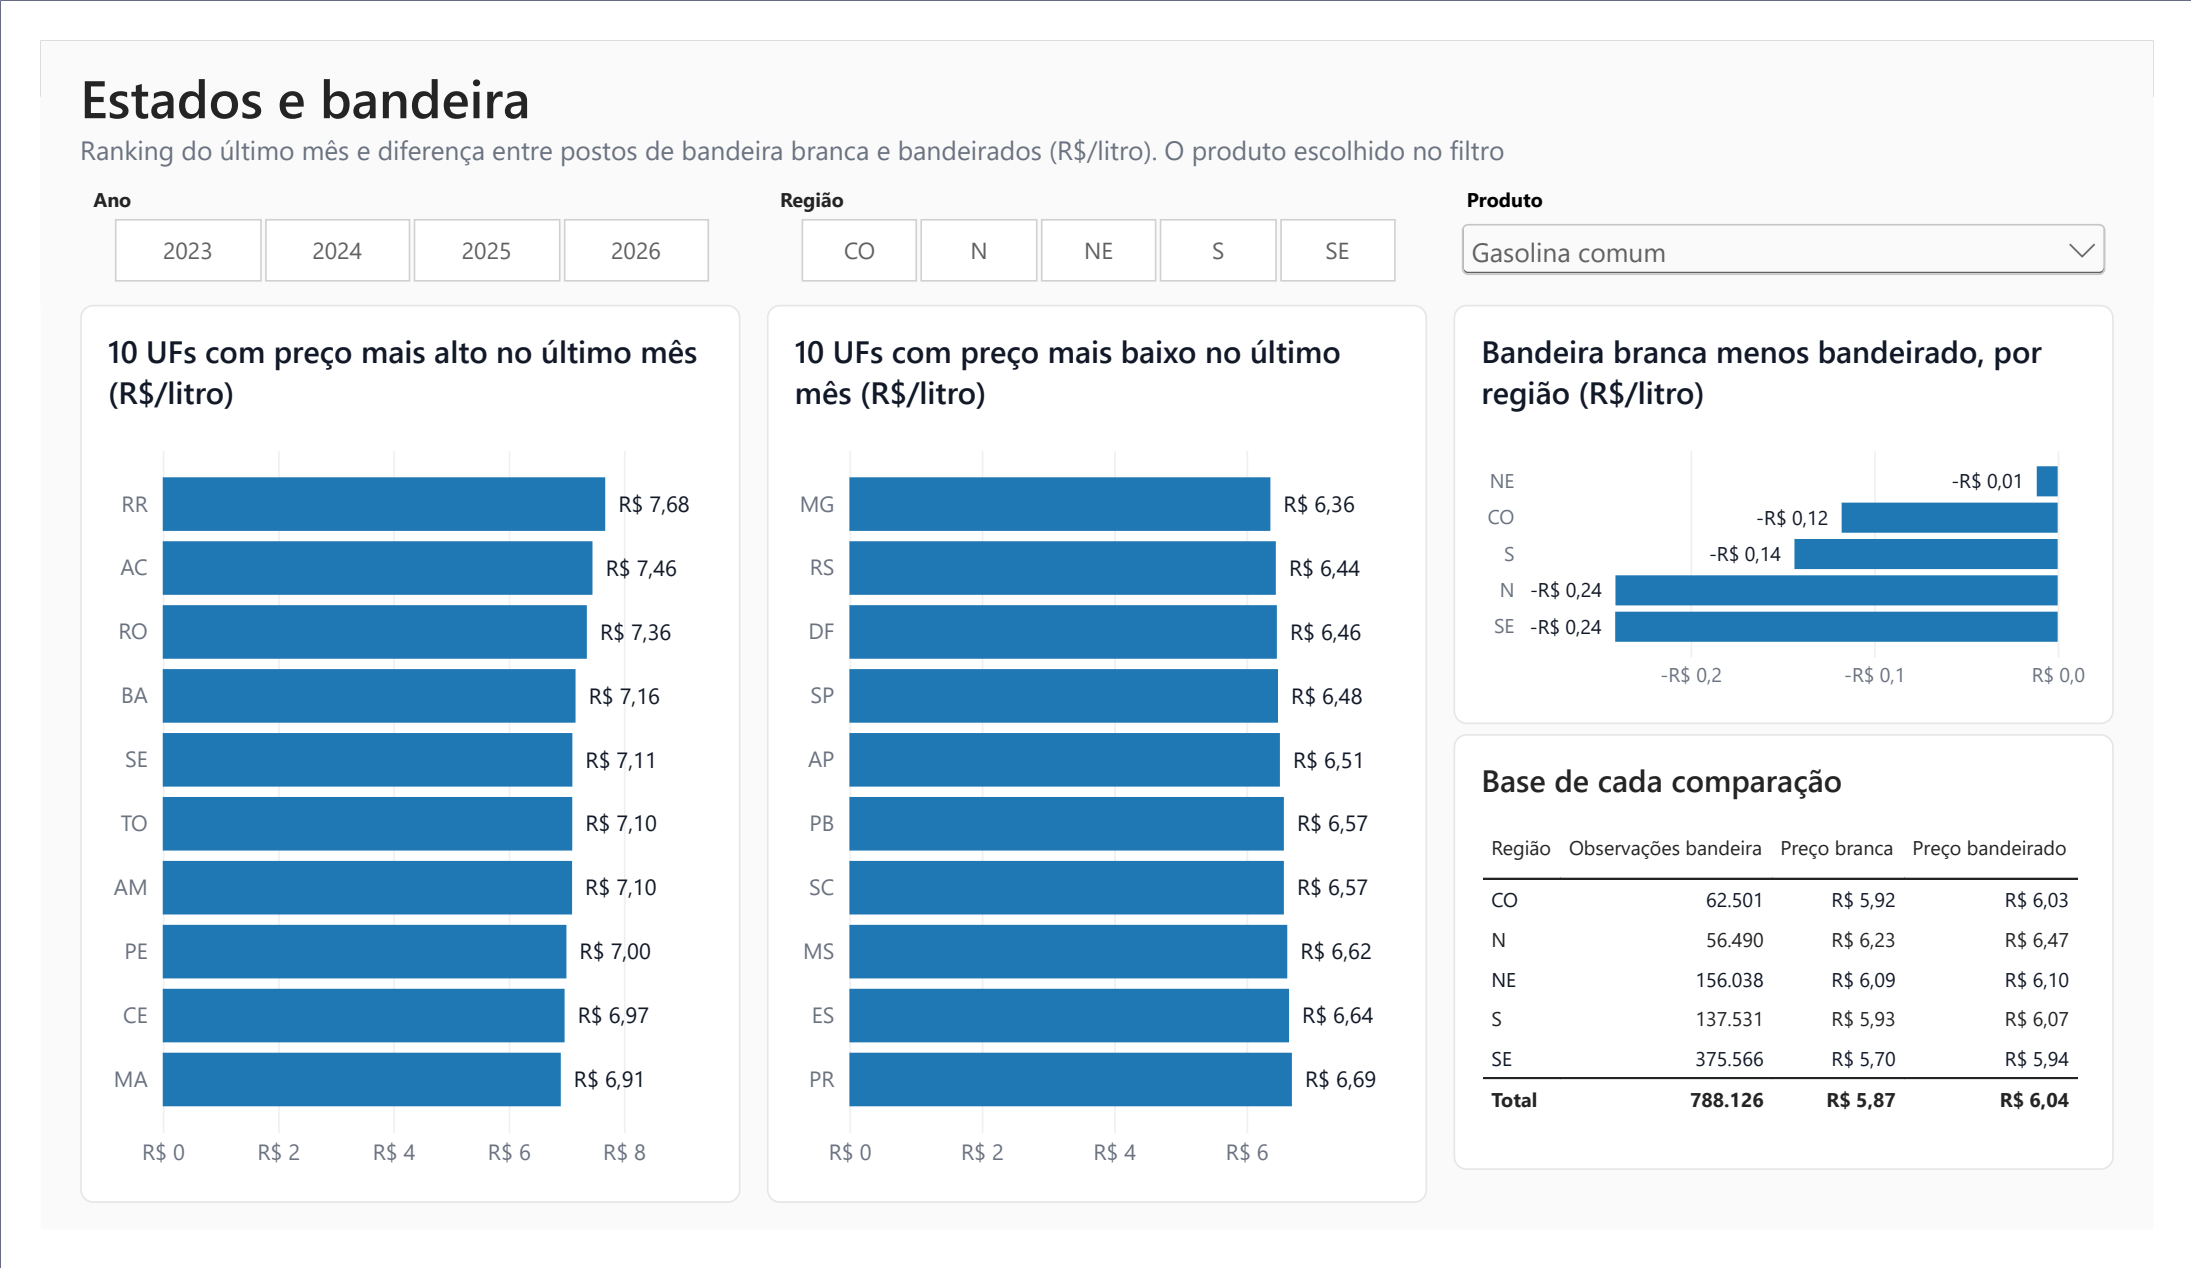

This screenshot's page, from the dashboard's own definition file:
{"tool":"powerbi","page":{"name":"Estados e bandeira","canvas":[1280,720],"ordinal":2},"visuals":[{"type":"textbox","box":[24.3,12,1232,64],"z":0},{"type":"slicer","fields":{"Values":["Calendario.Ano"]},"box":[24.3,88,400,60],"z":1000},{"type":"slicer","fields":{"Values":["uf_regiao.regiao"]},"box":[440,88,400,60],"z":2000},{"type":"barChart","title":"10 UFs com preço mais alto no último mês (R$/litro)","fields":{"Category":["uf_regiao.uf"],"Y":["_Medidas.Preço médio último mês"]},"box":[24,160,400,544],"z":6000},{"type":"slicer","fields":{"Values":["dim_produto.produto_nome"]},"box":[856,88,400,60],"z":6001},{"type":"barChart","title":"10 UFs com preço mais baixo no último mês (R$/litro)","fields":{"Category":["uf_regiao.uf"],"Y":["_Medidas.Preço médio último mês"]},"box":[440,160,400,544],"z":6002},{"type":"barChart","title":"Bandeira branca menos bandeirado, por região (R$/litro)","fields":{"Category":["uf_regiao.regiao"],"Y":["_Medidas.Diferença branca vs bandeirado"]},"box":[856,159.8,399.8,253.9],"z":6003},{"type":"tableEx","title":"Base de cada comparação","fields":{"Values":["uf_regiao.regiao","_Medidas.Observações bandeira","_Medidas.Preço branca","_Medidas.Preço bandeirado"]},"box":[856,420,400,264],"z":6004}]}

Visuals, with their boxes in screenshot pixels (x1, y1, x2, y2), scaled from the page's 1280x720 canvas onto the 2191x1268 screenshot:
textbox: 42,21,2150,134
slicer - Calendario.Ano: 42,155,726,261
slicer - uf_regiao.regiao: 753,155,1438,261
"10 UFs com preço mais alto no último mês (R$/litro)" barChart: 41,282,726,1240
slicer - dim_produto.produto_nome: 1465,155,2150,261
"10 UFs com preço mais baixo no último mês (R$/litro)" barChart: 753,282,1438,1240
"Bandeira branca menos bandeirado, por região (R$/litro)" barChart: 1465,281,2150,729
"Base de cada comparação" tableEx: 1465,740,2150,1205
